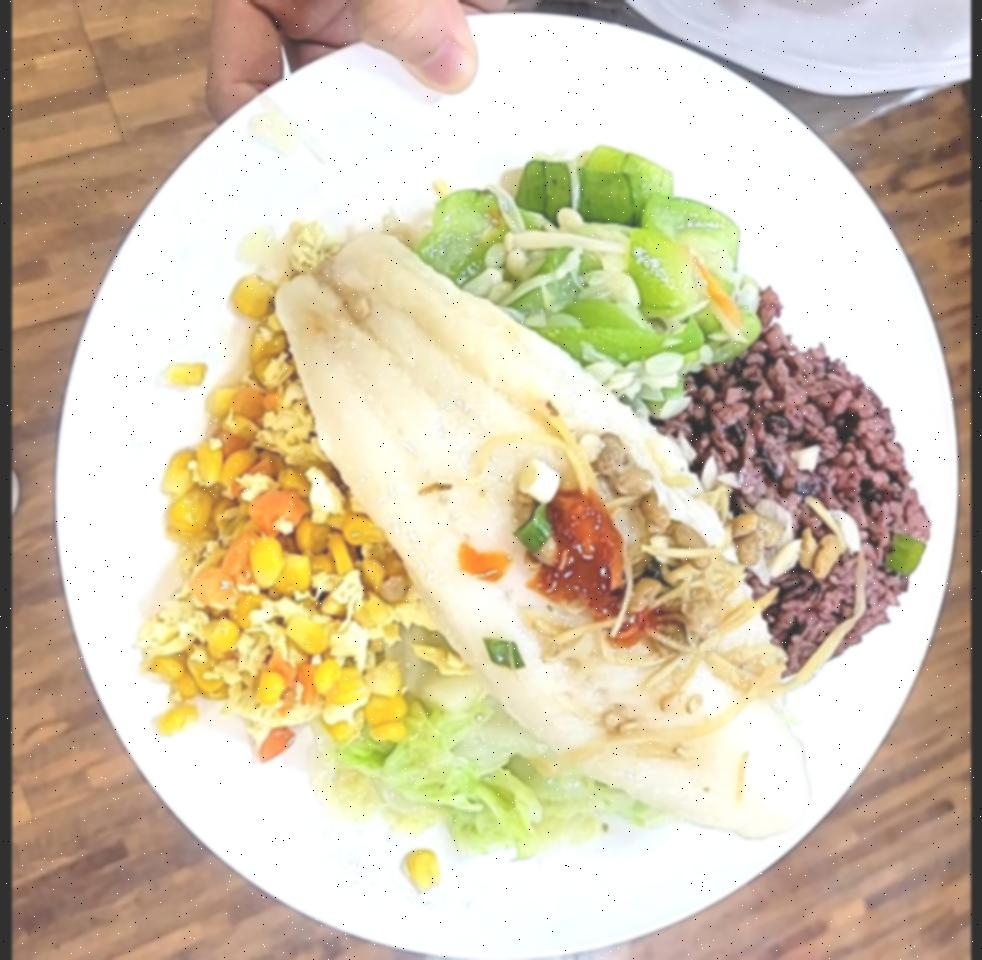plate: (39, 13, 960, 960)
purple rice: (687, 318, 932, 694)
side dish: (136, 302, 408, 744), (422, 139, 769, 418), (344, 656, 662, 848)
steamed fish fillet: (262, 234, 839, 837)
